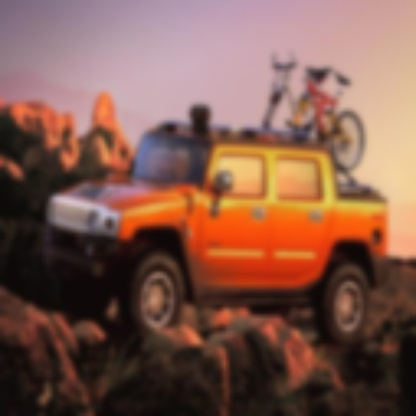Vehicle: (44, 104, 387, 343)
